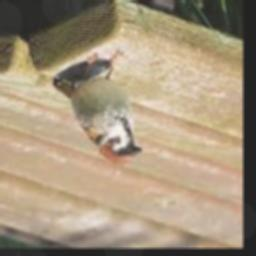Sparrow: (52, 50, 141, 162)
